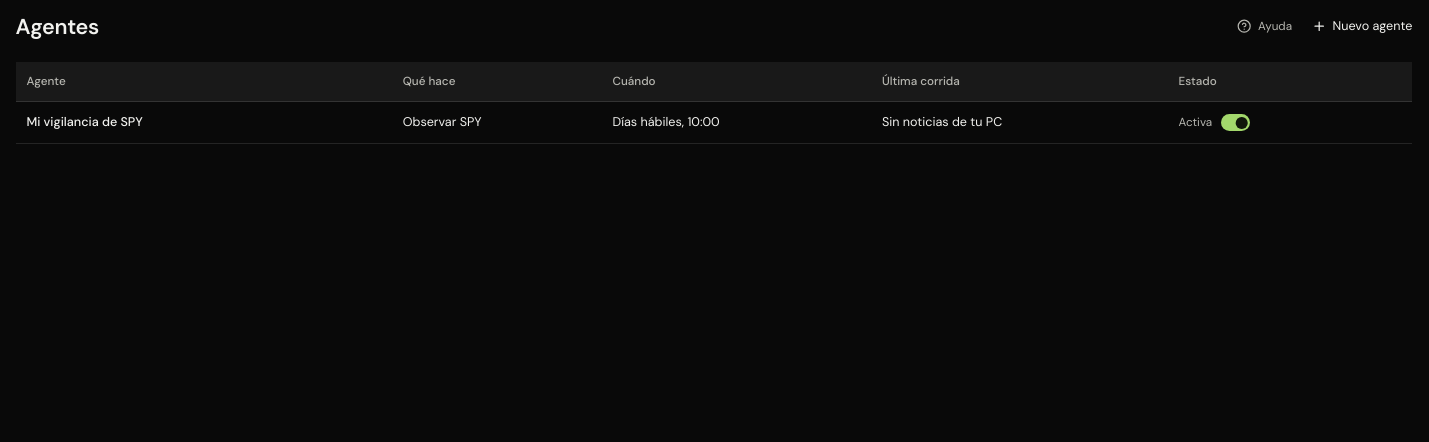
Test case: un resultado viejo conserva el aviso de falta de publicación
The image size is (1429, 442).
Click the button "Mi vigilancia de SPY".
click(85, 122)  # box [26, 114, 143, 130]
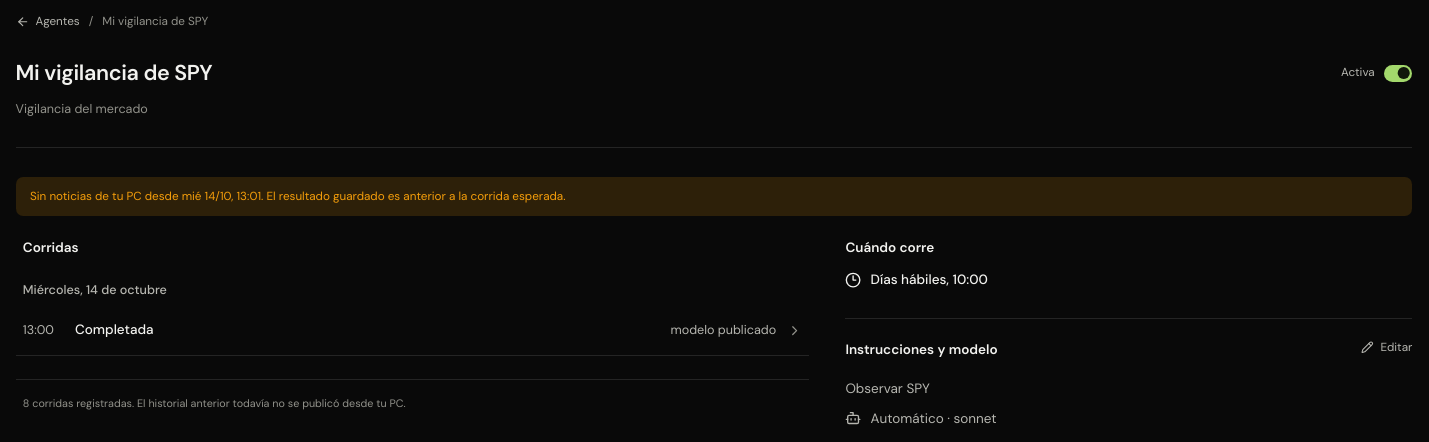
expect the text "Sin noticias de tu PC desde" is shown: met, box [30, 188, 182, 204]
